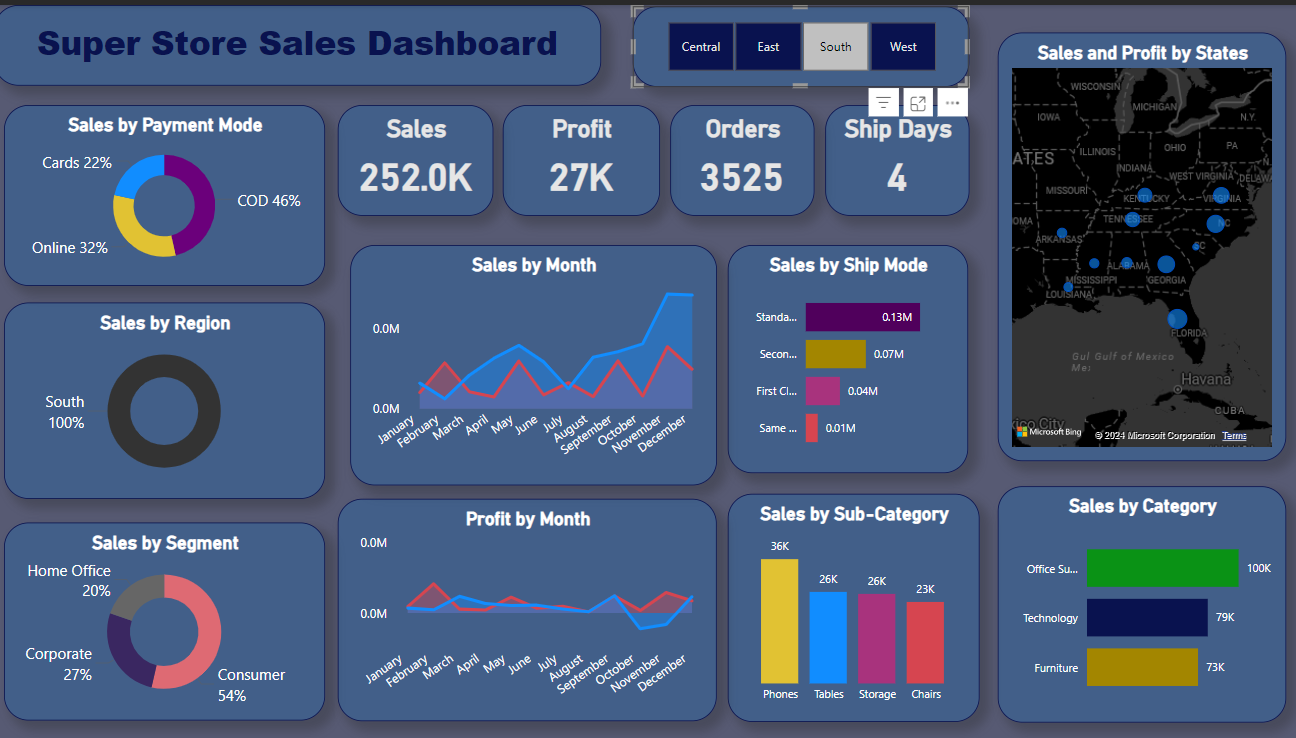

The page's visual inventory and layout, read from the dashboard file:
{"tool":"powerbi","page":{"name":"Dashboard","canvas":[1280,720],"ordinal":0},"visuals":[{"type":"textbox","box":[0,0,595.8,79.2],"z":0},{"type":"donutChart","title":"Sales by Payment Mode ","fields":{"Category":["SuperStore_Sales_Dataset.Payment Mode"],"Y":["CountNonNull(SuperStore_Sales_Dataset.Payment Mode)"]},"box":[9.7,98.6,315.3,177.8],"z":1000},{"type":"donutChart","title":"Sales by Region ","fields":{"Category":["SuperStore_Sales_Dataset.Region"],"Y":["CountNonNull(SuperStore_Sales_Dataset.Region)"]},"box":[9.7,291.7,315.3,193.1],"z":2000},{"type":"donutChart","title":"Sales by Segment","fields":{"Category":["SuperStore_Sales_Dataset.Segment"],"Y":["CountNonNull(SuperStore_Sales_Dataset.Segment)"]},"box":[9.7,508.3,315.3,194.4],"z":3000},{"type":"barChart","title":"Sales by Ship Mode","fields":{"Category":["SuperStore_Sales_Dataset.Ship Mode"],"Y":["Sum(SuperStore_Sales_Dataset.Sales)"]},"box":[720.8,236.1,236.1,223.6],"z":4000},{"type":"barChart","title":"Sales by Category","fields":{"Category":["SuperStore_Sales_Dataset.Category"],"Y":["Sum(SuperStore_Sales_Dataset.Sales)"]},"box":[984.7,472.2,283.3,231.9],"z":5000},{"type":"columnChart","title":"Sales by Sub-Category","fields":{"Category":["SuperStore_Sales_Dataset.Sub-Category"],"Y":["Sum(SuperStore_Sales_Dataset.Sales)"]},"box":[720.8,479.2,247.2,223.6],"z":6000},{"type":"card","title":"Sales","fields":{"Values":["SuperStore_Sales_Dataset.Total Sales"]},"box":[337.1,98.6,152.9,108.6],"z":7000},{"type":"card","title":"Profit","fields":{"Values":["Sum(SuperStore_Sales_Dataset.Profit)"]},"box":[500,98.6,154.3,108.6],"z":8000},{"type":"card","title":"Orders","fields":{"Values":["Sum(SuperStore_Sales_Dataset.Quantity)"]},"box":[664.3,98.6,141.4,108.6],"z":9000},{"type":"card","title":"Ship Days ","fields":{"Values":["SuperStore_Sales_Dataset.Shipday"]},"box":[815.7,98.6,141.4,108.6],"z":10000},{"type":"slicer","fields":{"Values":["SuperStore_Sales_Dataset.Region"]},"box":[626.4,1.4,330.6,79.2],"z":11000},{"type":"map","title":"Sales and Profit by States","fields":{"Category":["SuperStore_Sales_Dataset.State"],"Size":["Sum(SuperStore_Sales_Dataset.Sales)"]},"box":[984.7,26.4,283.3,420.8],"z":12000},{"type":"areaChart","title":" Sales by Month ","fields":{"Category":["SuperStore_Sales_Dataset.Order Date.Variation.Date Hierarchy.Month"],"Series":["SuperStore_Sales_Dataset.Order Date.Variation.Date Hierarchy.Year"],"Y":["Sum(SuperStore_Sales_Dataset.Sales)"]},"box":[350,236.1,359.7,236.1],"z":13000},{"type":"areaChart","title":"Profit  by Month ","fields":{"Category":["SuperStore_Sales_Dataset.Order Date.Variation.Date Hierarchy.Month"],"Series":["SuperStore_Sales_Dataset.Order Date.Variation.Date Hierarchy.Year"],"Y":["Sum(SuperStore_Sales_Dataset.Profit)"]},"box":[337.5,484.7,372.2,218.1],"z":14000}]}

Visuals, with their boxes in screenshot pixels (x1, y1, x2, y2), scaled from the page's 1280x720 canvas onto the 1296x738 screenshot:
textbox: pyautogui.locateOnScreen(0, 0, 603, 81)
"Sales by Payment Mode " donutChart: pyautogui.locateOnScreen(10, 101, 329, 283)
"Sales by Region " donutChart: pyautogui.locateOnScreen(10, 299, 329, 497)
"Sales by Segment" donutChart: pyautogui.locateOnScreen(10, 521, 329, 720)
"Sales by Ship Mode" barChart: pyautogui.locateOnScreen(730, 242, 969, 471)
"Sales by Category" barChart: pyautogui.locateOnScreen(997, 484, 1284, 722)
"Sales by Sub-Category" columnChart: pyautogui.locateOnScreen(730, 491, 980, 720)
"Sales" card: pyautogui.locateOnScreen(341, 101, 496, 212)
"Profit" card: pyautogui.locateOnScreen(506, 101, 662, 212)
"Orders" card: pyautogui.locateOnScreen(673, 101, 816, 212)
"Ship Days " card: pyautogui.locateOnScreen(826, 101, 969, 212)
slicer - SuperStore_Sales_Dataset.Region: pyautogui.locateOnScreen(634, 1, 969, 83)
"Sales and Profit by States" map: pyautogui.locateOnScreen(997, 27, 1284, 458)
" Sales by Month " areaChart: pyautogui.locateOnScreen(354, 242, 719, 484)
"Profit  by Month " areaChart: pyautogui.locateOnScreen(342, 497, 719, 720)
